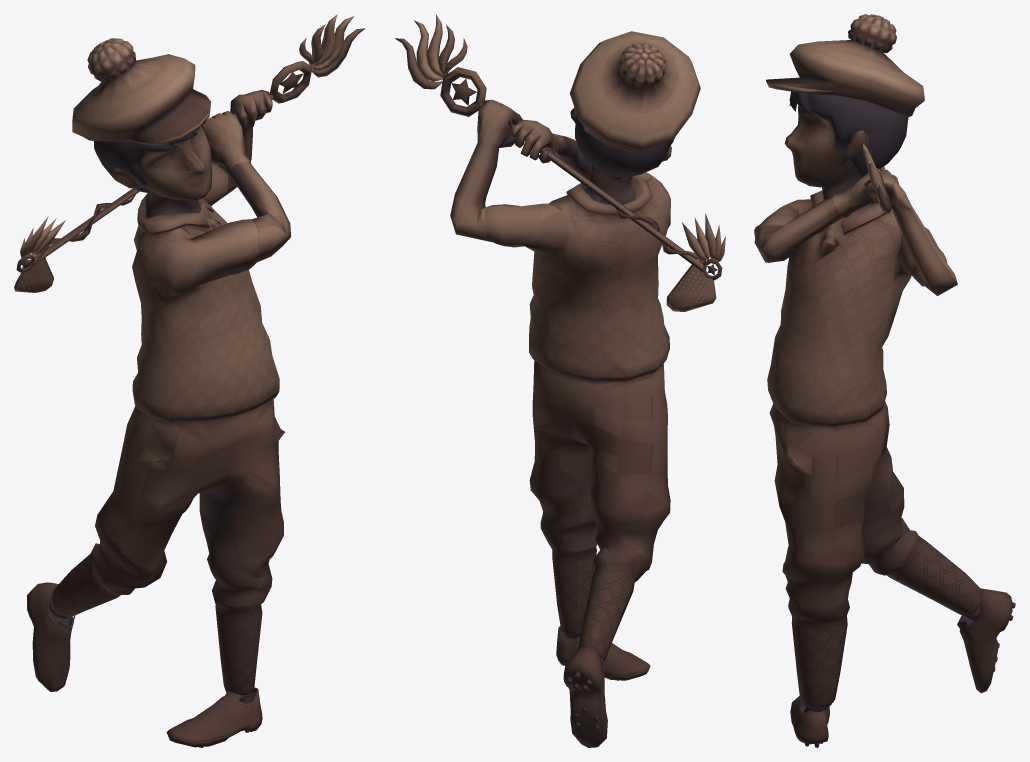
The model's file is golf_swing_pose.glb.
3 renders of one model, left to right at view 1: azimuth 30°, elevation 25°; view 2: azimuth 150°, elevation 25°; view 3: azimuth 270°, elevation 25°, orthographic. The views are drawn at different scales.
Visible parts, largest first — view 1: M_golfcraft_color; view 2: M_golfcraft_color; view 3: M_golfcraft_color.
Boxes of the visible parts, left/top/right/bottom form: M_golfcraft_color: left=14, top=14, right=365, bottom=747; M_golfcraft_color: left=395, top=14, right=725, bottom=747; M_golfcraft_color: left=754, top=14, right=1015, bottom=747.
Size of the model in its own units: 1.05 by 2.01 by 0.7033.
9 materials, 9 textured.
